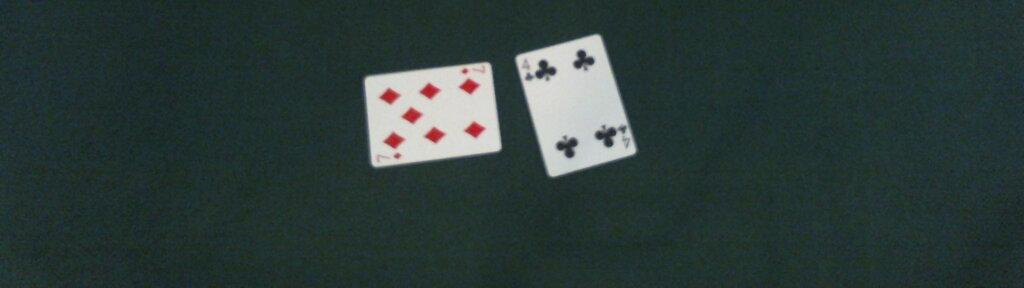four: (512, 33, 638, 179)
seven: (363, 60, 502, 169)
